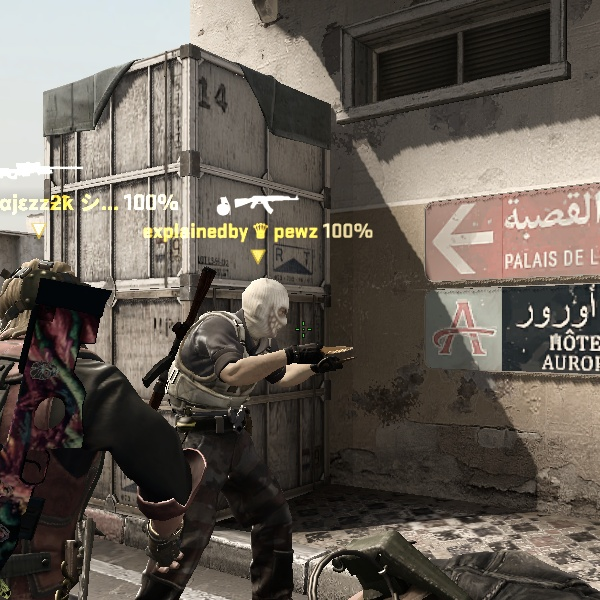t_body: (137, 269, 325, 594)
t_head: (3, 254, 124, 380), (222, 266, 312, 350)
